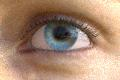eye: (45, 21, 77, 51)
